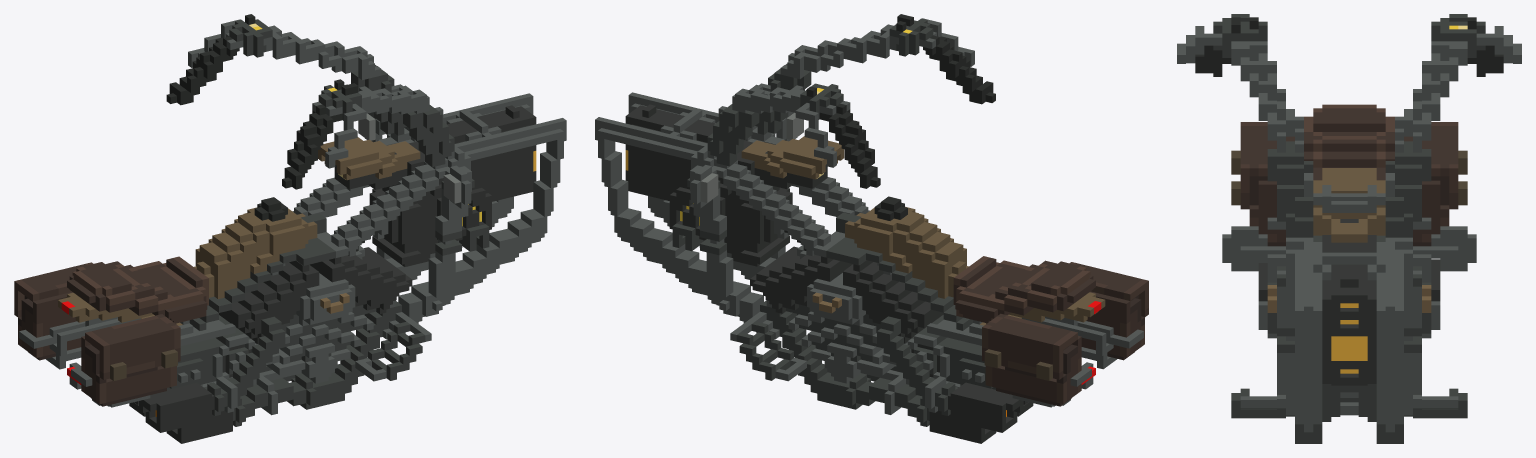
The model's file is chopper.glb.
3 views of the same model, side by side, from view 1: azimuth 30°, elevation 25°; view 2: azimuth 150°, elevation 25°; view 3: azimuth 270°, elevation 25° (orthographic). The views are drawn at different scales.
Parts seen in each view (by area): view 1: chopper; view 2: chopper; view 3: chopper.
Part boxes in pixels (x1,y1,x2,y2): chopper: [14, 14, 566, 443]; chopper: [595, 14, 1148, 443]; chopper: [1177, 14, 1521, 443].
Size of the model in its own units: 7.7 by 5 by 3.8.
Materials: 1 (1 with a texture image).
